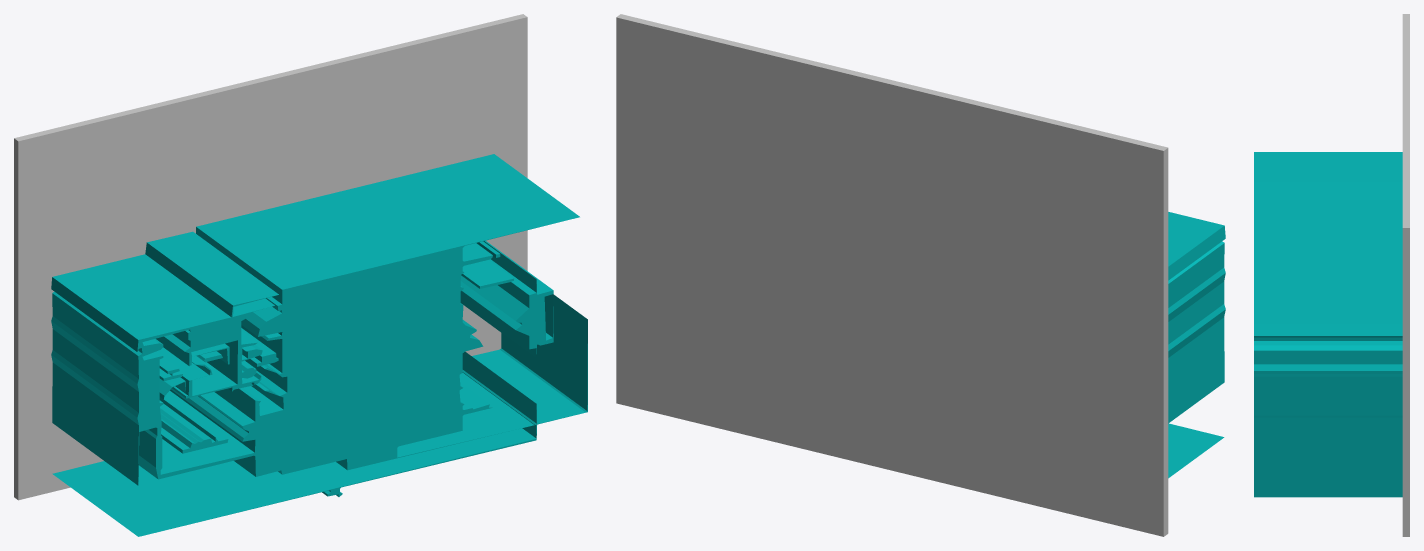
The picture shows the model from 3 angles, left to right: view 1: azimuth 30°, elevation 25°; view 2: azimuth 150°, elevation 25°; view 3: azimuth 270°, elevation 25°; orthographic projection. The views are drawn at different scales.
Visible parts, largest first — view 1: world; view 2: world; view 3: world.
Boxes of the visible parts, x1,y1,x2,y2 form: world: (14, 14, 587, 536); world: (616, 14, 1225, 536); world: (1254, 14, 1409, 536).
Bounding box in the file's own units: 10.23 × 6.89 × 3.15.
